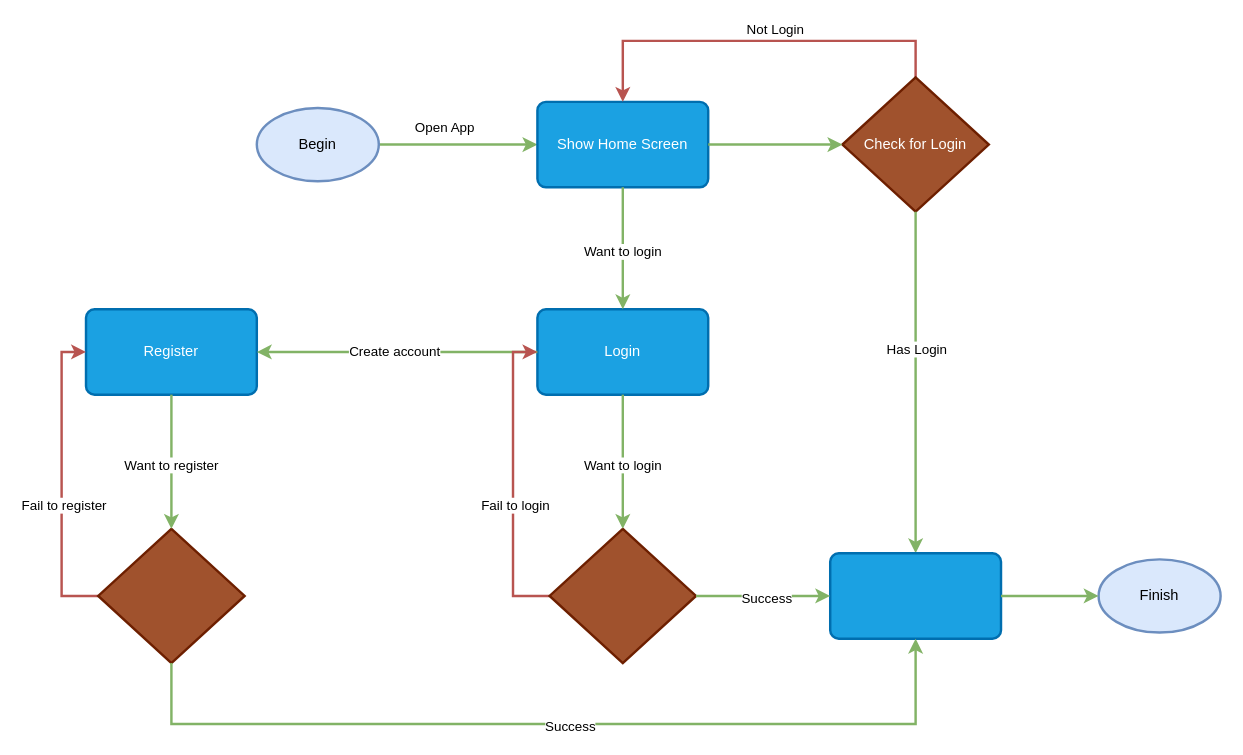
Image size: 1243x755. Some labels were removed from this diagram. Here are the shapes that lost their labels. From the top down, the centre of each, then its label:
At pixel 170 595: "Create account for user".
At pixel 622 595: "Sign in user".
At pixel 915 595: "Update Home Screen".
